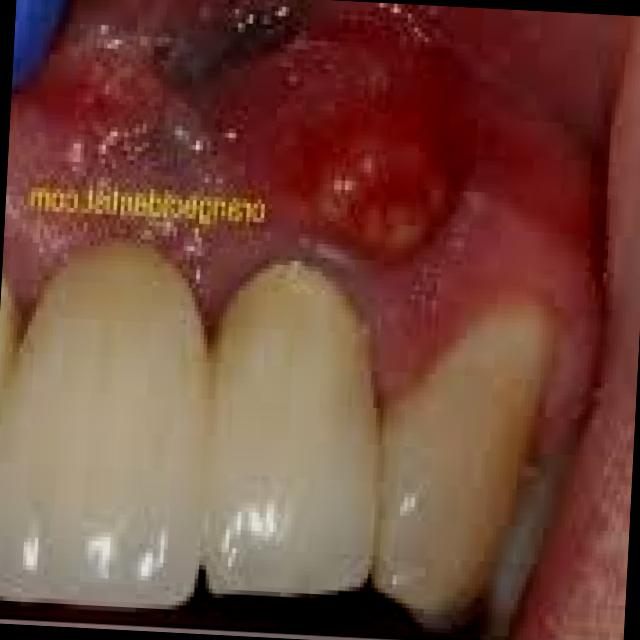abscess: (270, 91, 502, 276)
